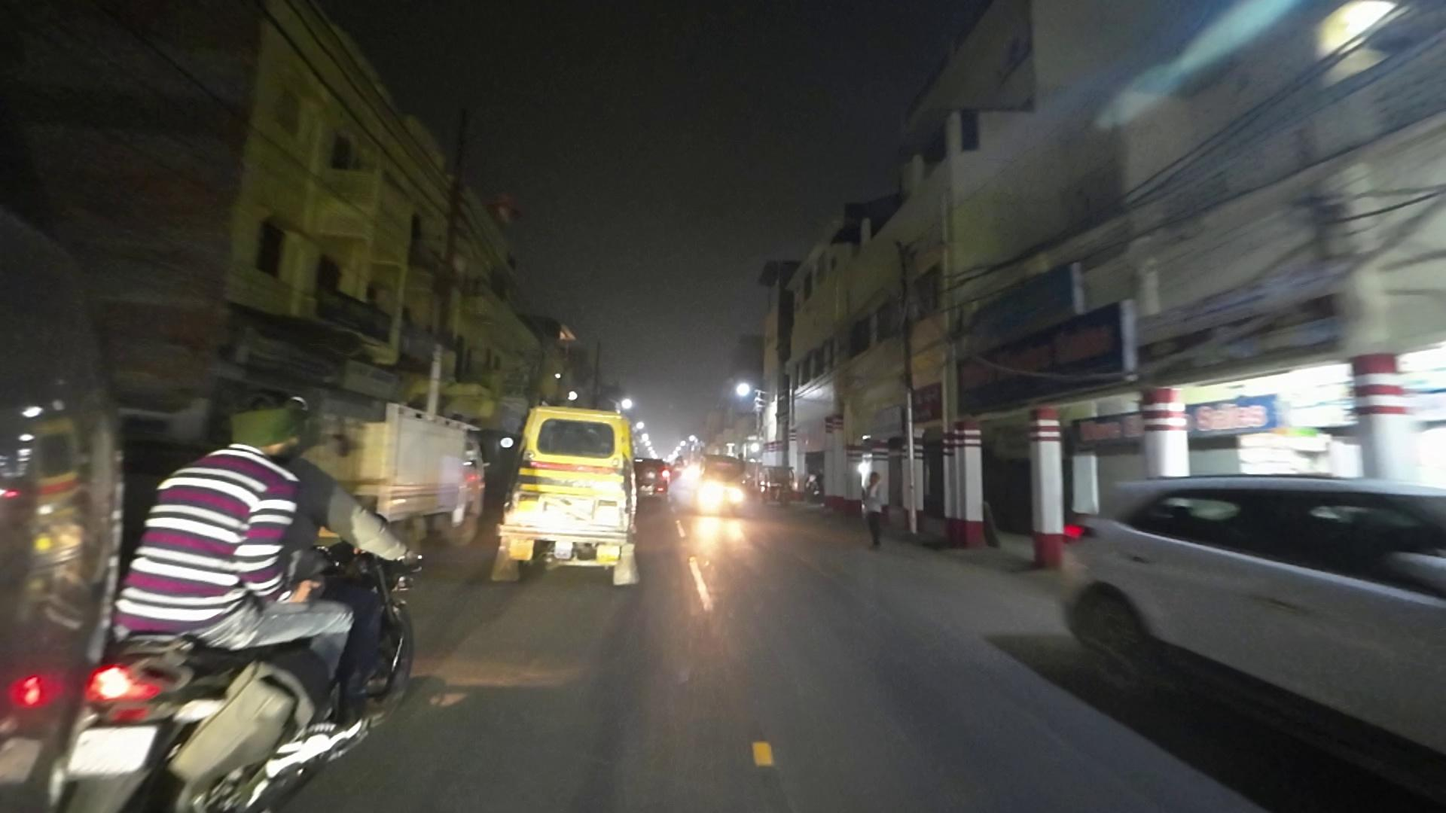streetlight: (489, 192, 520, 226)
